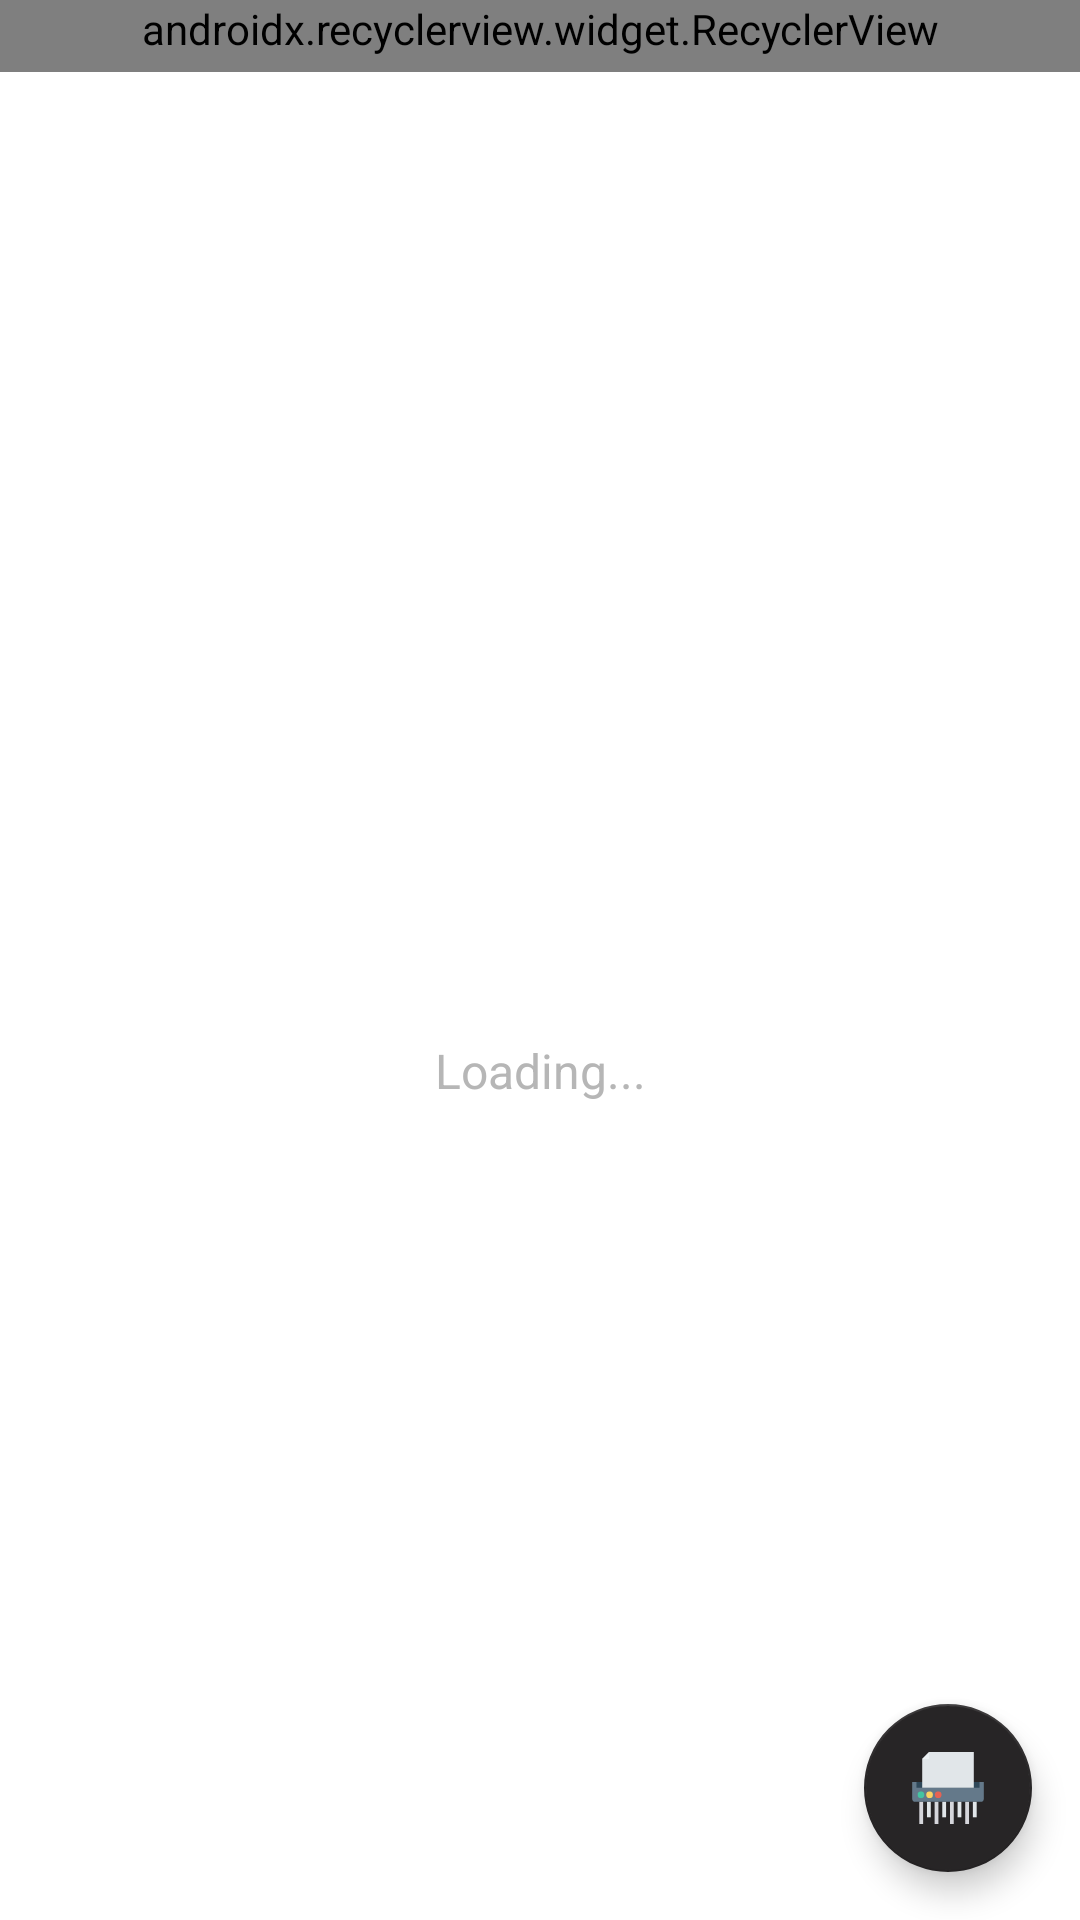

Named icons in this screenshot (1080 x 1920) and their bounding boxes, (x1=x1, y1=y1, x2=x2, y2=y2):
Shred Button: (x1=864, y1=1704, x2=1032, y2=1872)
